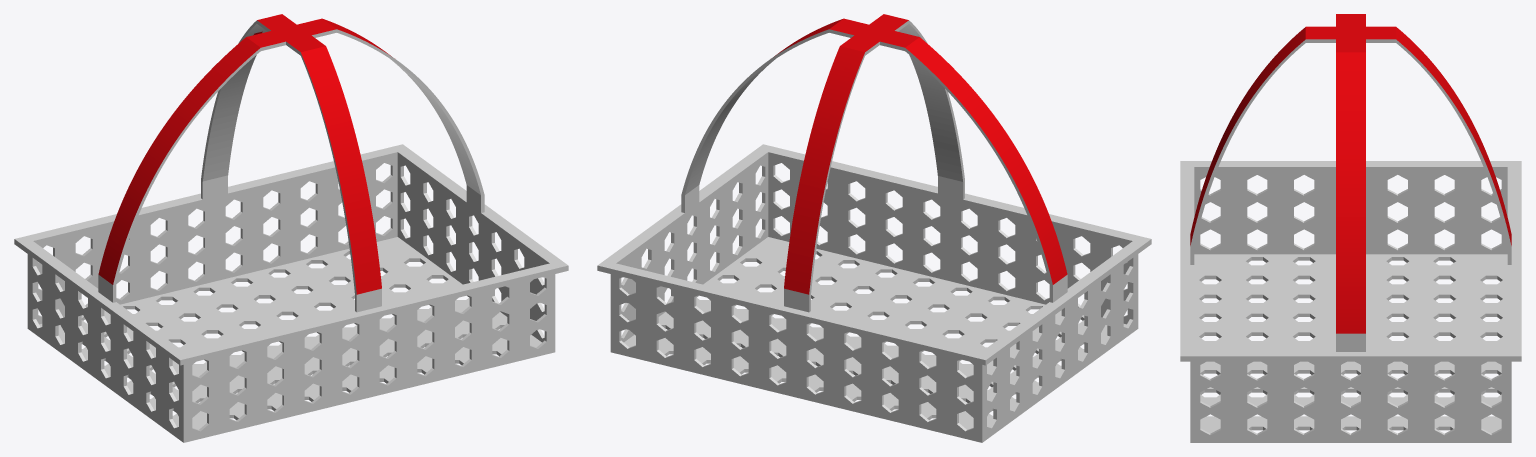
The picture shows the model from 3 angles, left to right: view 1: azimuth 30°, elevation 25°; view 2: azimuth 150°, elevation 25°; view 3: azimuth 270°, elevation 25°; orthographic projection. The views are drawn at different scales.
Parts seen in each view (by area): view 1: box main; view 2: box main; view 3: box main.
Part boxes in pixels (bbox=[...]): box main: bbox=[14, 14, 568, 442]; box main: bbox=[597, 14, 1151, 442]; box main: bbox=[1180, 14, 1521, 442].
Size of the model in its own units: 230 by 170 by 174.
